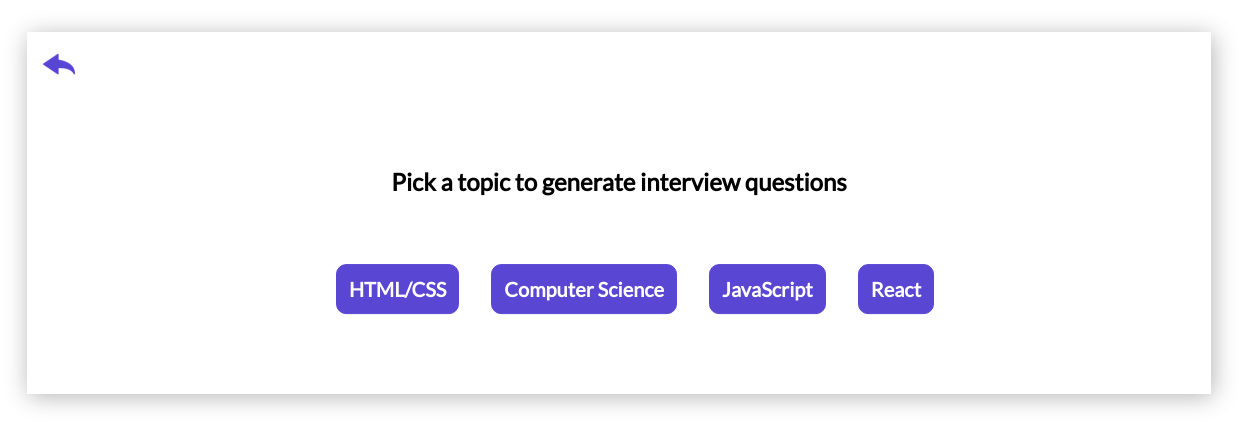
Test case: Technical Landing Page › should take you back to the homepage if you click the back arrow
Click the picture named "back-arrow": (59, 64) [43,48,75,80]
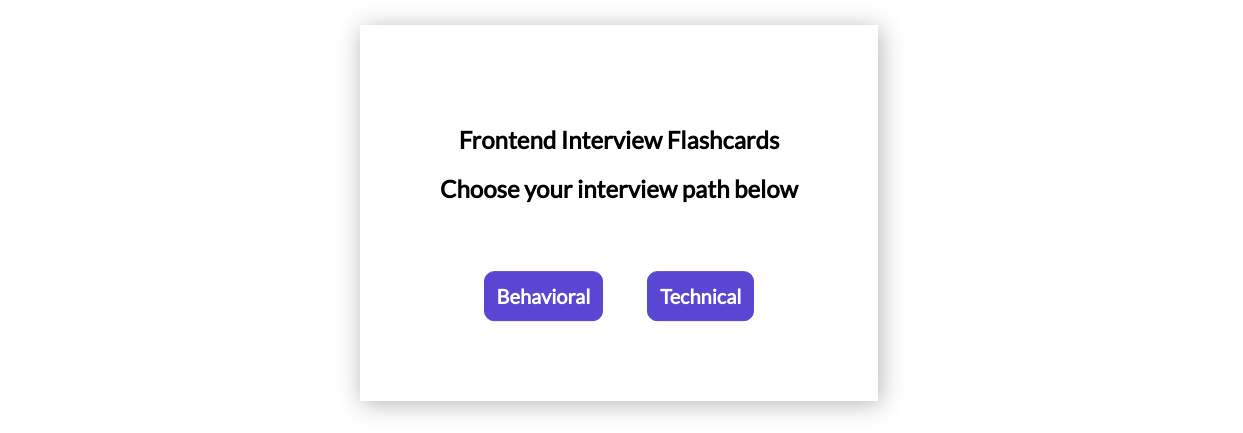
Expected: the element with class "mainHomepage" is shown, [360,25,878,401]
